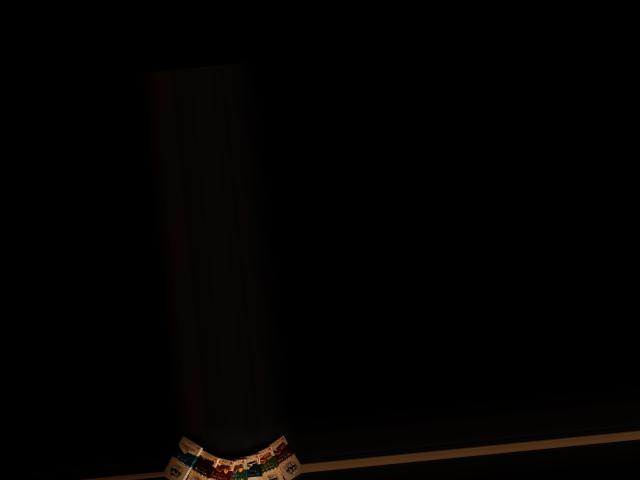chocolate: (161, 430, 206, 480)
